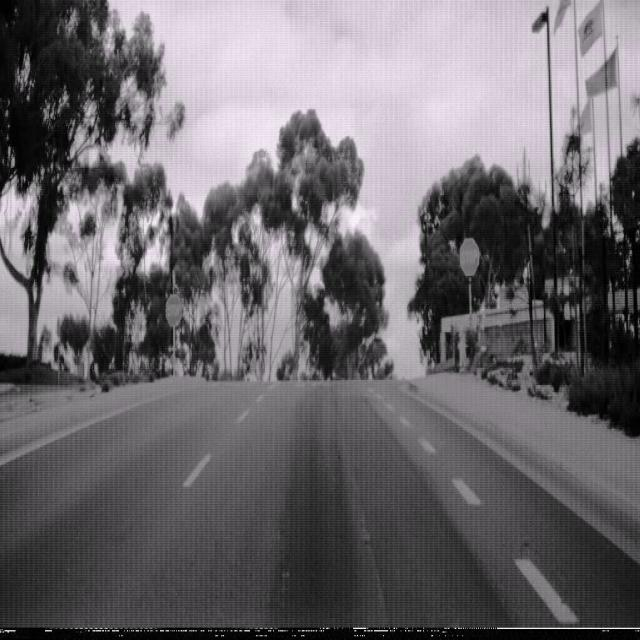stop_sign: (460, 237, 480, 277), (165, 292, 182, 326)
